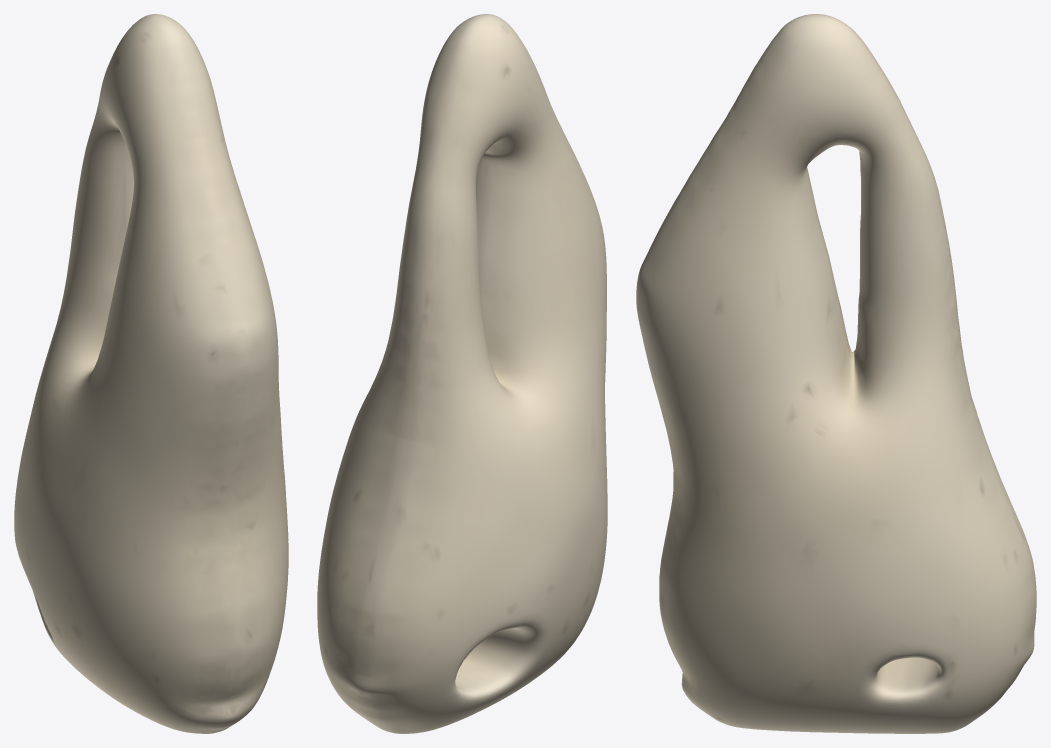
Rendered from knight-white-hd.glb.
3 renders of one model, left to right at view 1: azimuth 30°, elevation 25°; view 2: azimuth 150°, elevation 25°; view 3: azimuth 270°, elevation 25°, orthographic. The views are drawn at different scales.
Parts seen in each view (by area): view 1: Lumen jezdec bila; view 2: Lumen jezdec bila; view 3: Lumen jezdec bila.
Part boxes in pixels (x1,y1,x2,y2): Lumen jezdec bila: [14, 14, 288, 733]; Lumen jezdec bila: [317, 14, 607, 733]; Lumen jezdec bila: [636, 14, 1036, 733].
Size of the model in its own units: 0.3776 by 1.12 by 0.5825.
